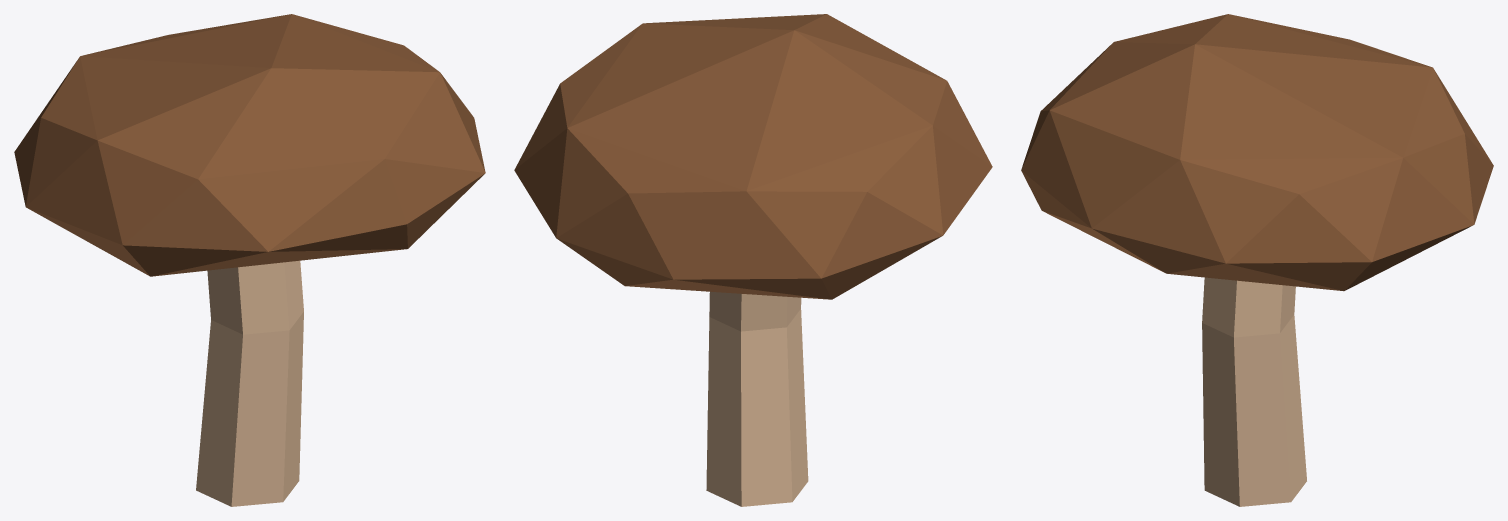
The model's file is mushroom_interactable_1.fbx.
The picture shows the model from 3 angles, left to right: view 1: azimuth 30°, elevation 25°; view 2: azimuth 150°, elevation 25°; view 3: azimuth 270°, elevation 25°; orthographic projection.
Visible parts, largest first — view 1: mushroom_interactable_1; view 2: mushroom_interactable_1; view 3: mushroom_interactable_1.
Part boxes in pixels (x1,y1,x2,y2): mushroom_interactable_1: (14,14,485,506); mushroom_interactable_1: (514,14,992,506); mushroom_interactable_1: (1021,14,1493,506).
Size of the model in its own units: 114 by 116 by 113.
